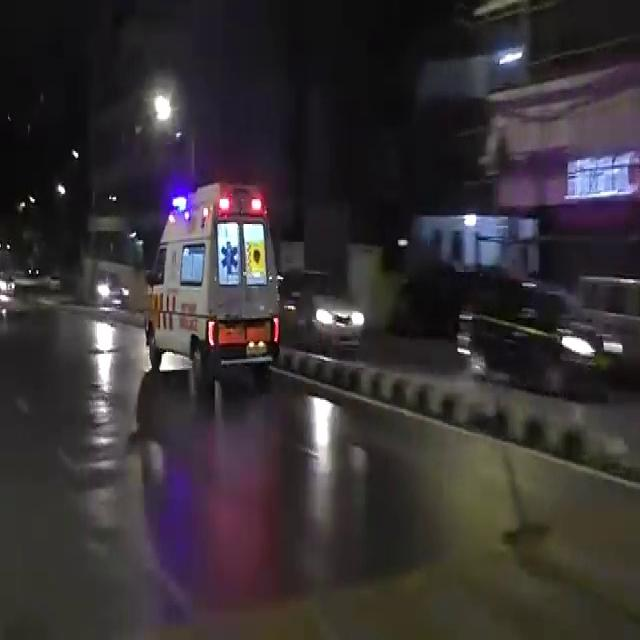ambulance: (135, 176, 290, 408)
